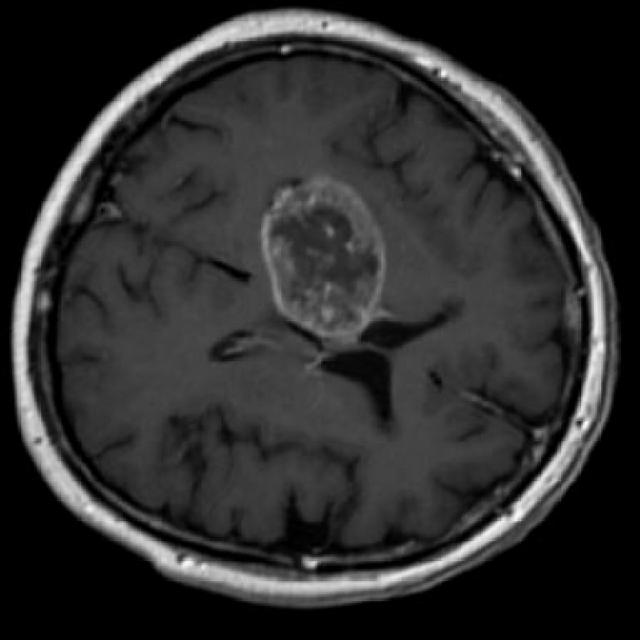Brain-Tumor: (248, 168, 409, 365)
